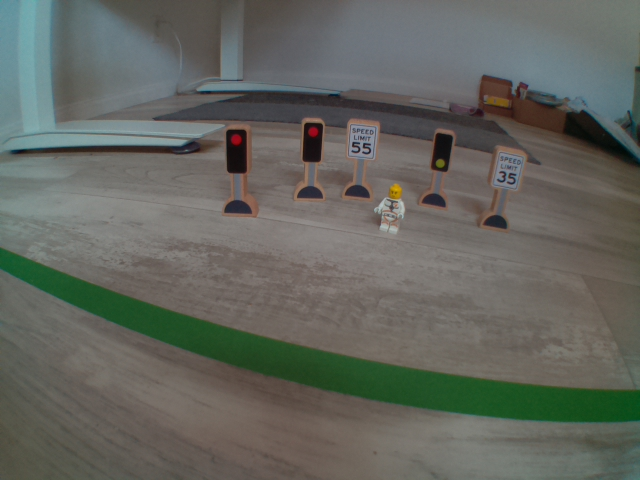Green Traffic Light: (430, 123, 454, 176)
Red Traffic Light: (222, 121, 257, 178), (296, 118, 325, 166)
Speed Limit 35: (488, 139, 526, 193)
Speed Limit 55: (347, 118, 379, 161)
person: (367, 181, 410, 238)
